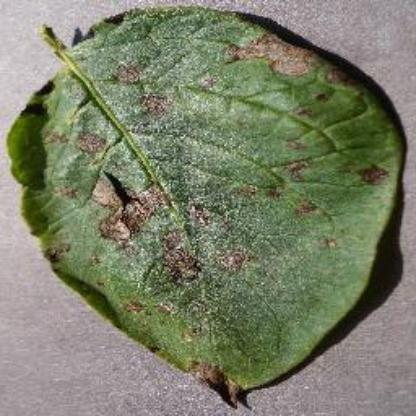Early-Blight: (4, 0, 416, 412)
